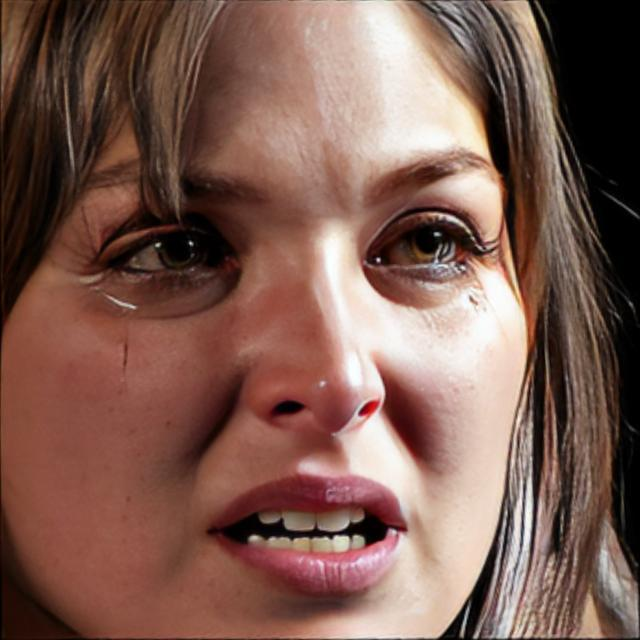disgust: (0, 0, 530, 639)
